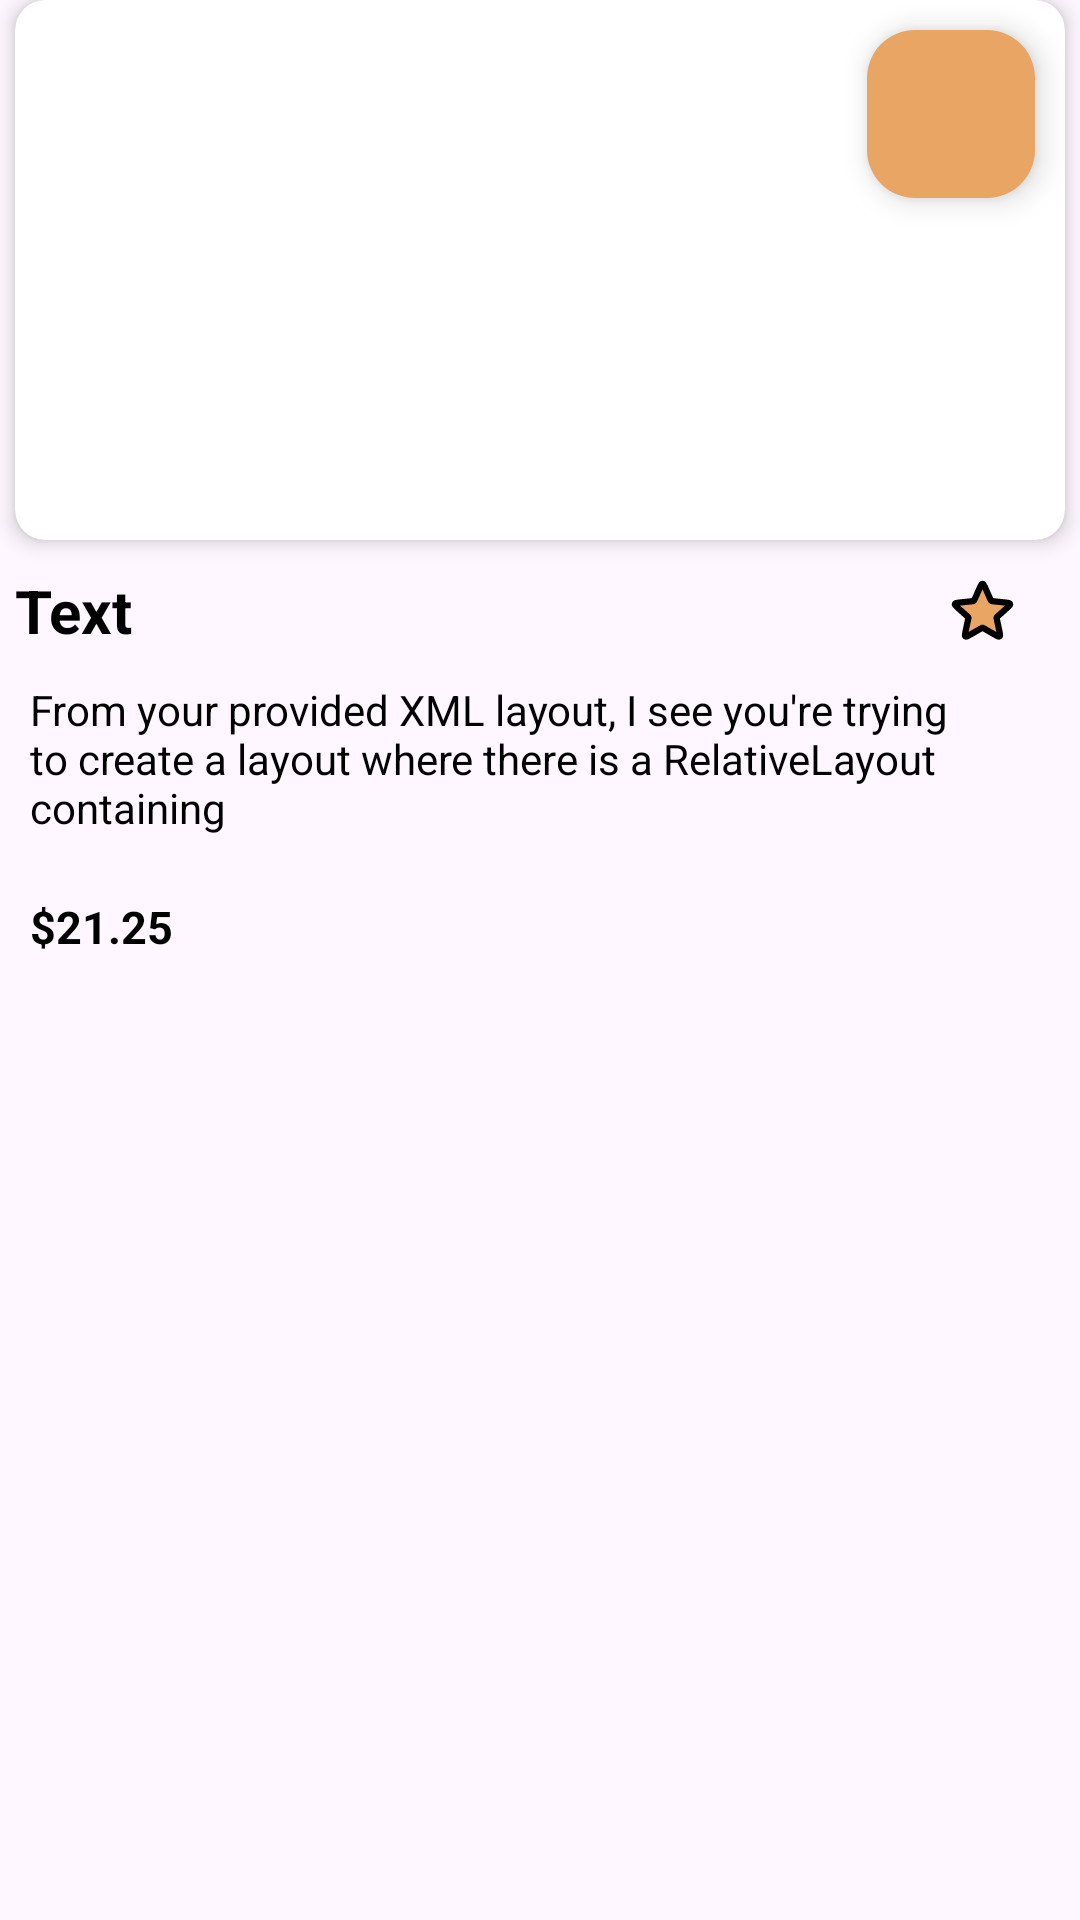

Icons on this 1080px x 1920px Android screen, each with the point to tap as [x,y]:
star: [982,610]
